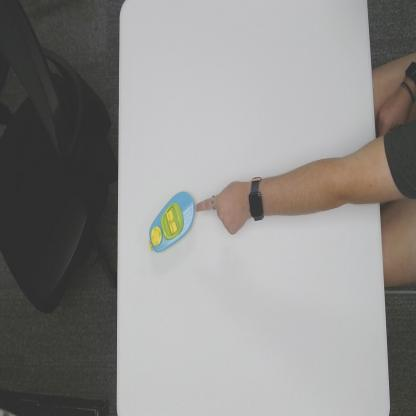Arm: (267, 146, 379, 217)
Boat: (148, 189, 194, 255)
Hand: (196, 179, 248, 237)
